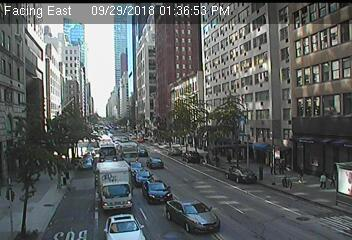car: (166, 198, 220, 233), (96, 160, 131, 212), (103, 214, 144, 240), (142, 179, 172, 203), (116, 143, 139, 168), (225, 167, 256, 184), (132, 168, 153, 187), (99, 142, 115, 165), (181, 151, 200, 163), (145, 158, 164, 168), (127, 160, 141, 173), (79, 158, 92, 171), (136, 148, 148, 157), (84, 152, 93, 162), (167, 148, 179, 155)
